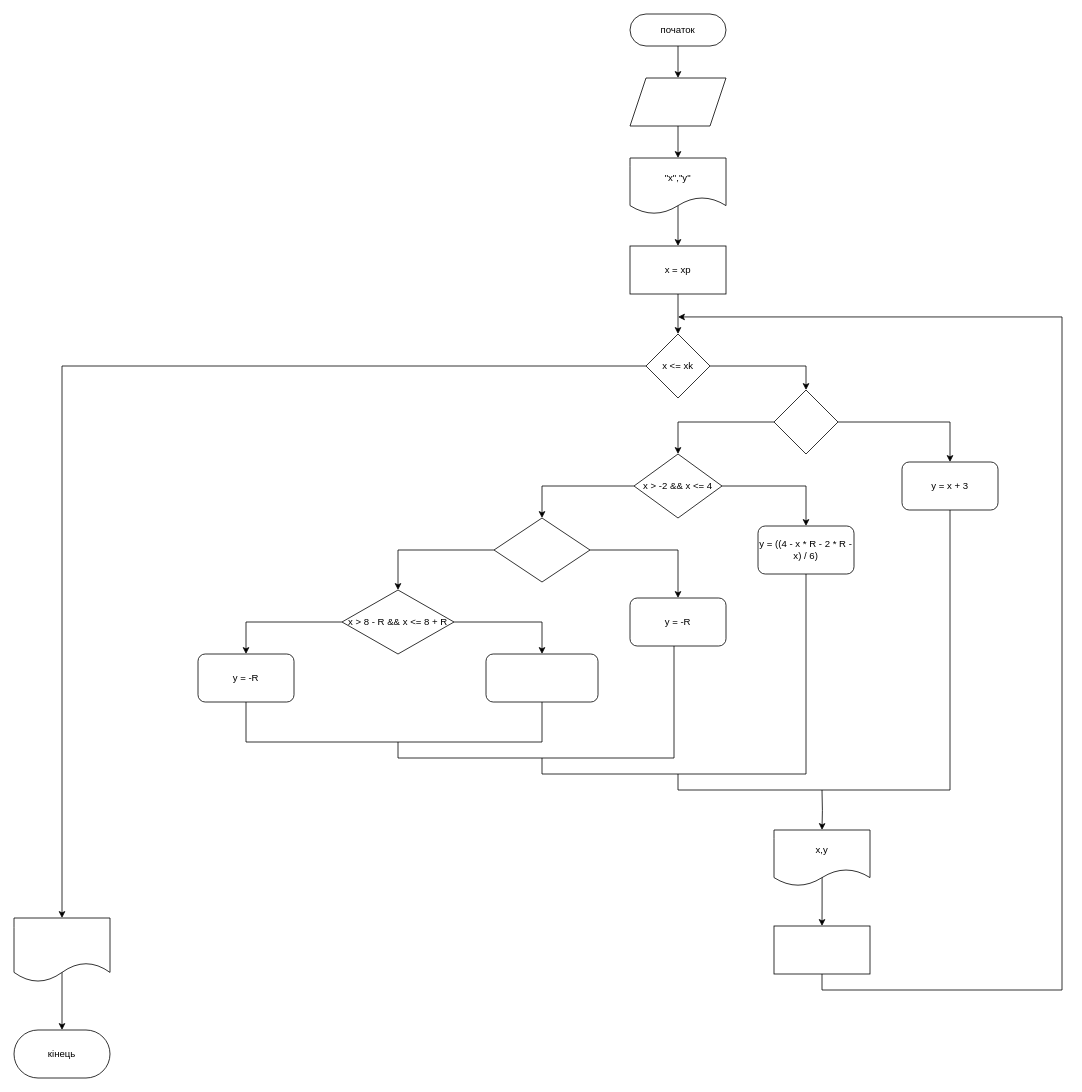
The diagram is 1082 pixels wide and 1092 high, and some of its shapes have lost their labels. The centre of each missing label's shape, as x and y in pixels:
"x +=dx" goes at (821,949).
"x <= -2" goes at (805,421).
"x > 4 && x <= 8 - R" goes at (541,549).
"xp, xk, dx, R" goes at (677,101).
"y = sqrt(R * R - (8 + R))" goes at (541,677).
"завершення таблиці" goes at (61,949).
